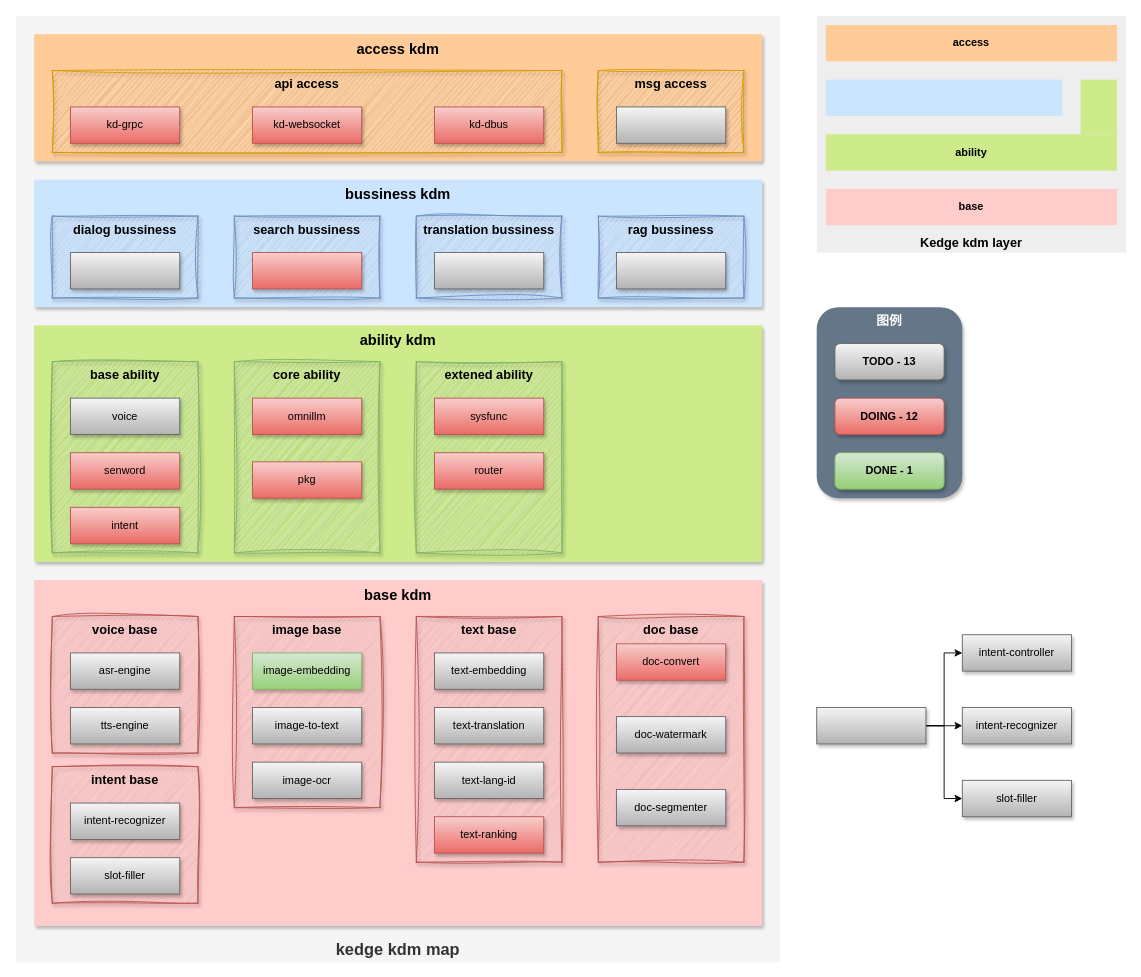
The diagram is 1141 pixels wide and 977 high, and some of its shapes have lost their labels. The centre of each missing label's shape, as x and y in pixels:
"business" belongs at [943,97].
"diaengine" belongs at [125,271].
"intent kdm socpe" belongs at [871,726].
"kd-mqtt" belongs at [671,126].
"omnisearch" belongs at [307,271].
"rag-contrallor" belongs at [671,271].
"tranzify" belongs at [489,271].
